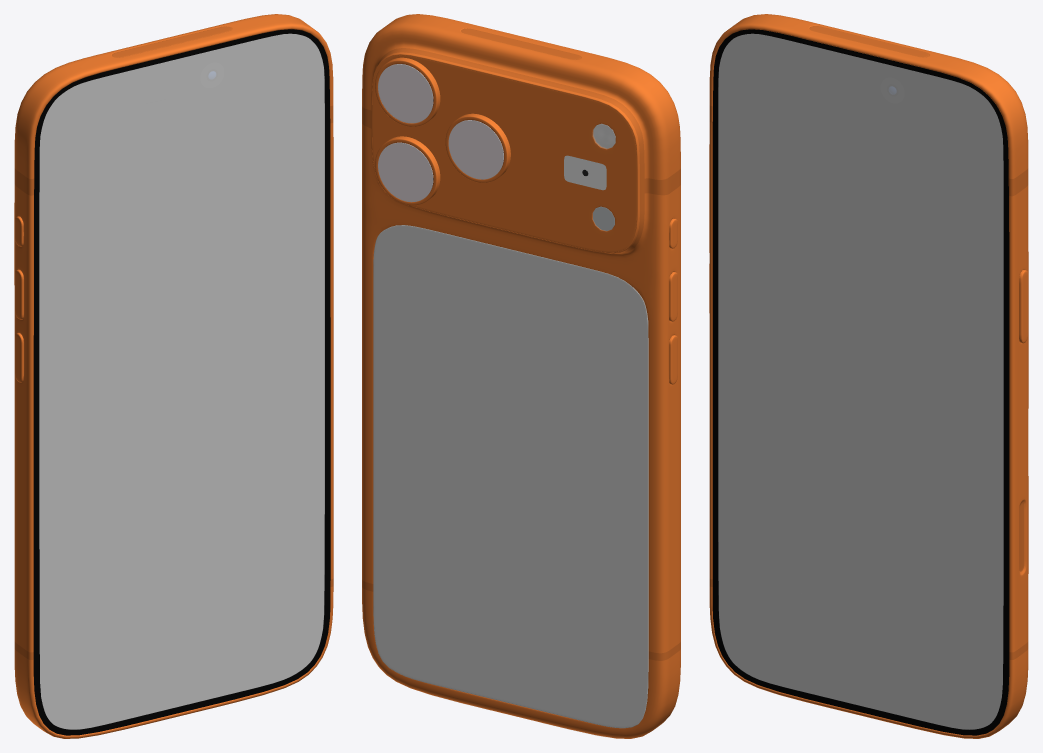
The model's file is Iphone17 test model.fbx.
The picture shows the model from 3 angles, left to right: view 1: azimuth 30°, elevation 25°; view 2: azimuth 150°, elevation 25°; view 3: azimuth 330°, elevation 25°; orthographic projection.
Visible parts, largest first — view 1: Touch Panel, Screen, Cube, Touch Panel.001; view 2: Cube.005, Cube, Cube.002, Circle.007, Circle.001, Circle.004, iphone dot, Circle, Circle.003, Circle.006; view 3: Touch Panel, Screen, Cube, Touch Panel.001, Cube.006.
Part boxes in pixels (x1,y1,x2,y2): Touch Panel: [33, 29, 330, 735]; Screen: [40, 34, 323, 728]; Cube: [14, 14, 333, 738]; Touch Panel.001: [138, 62, 224, 103]; Cube.005: [373, 225, 648, 728]; Cube: [362, 14, 680, 738]; Cube.002: [372, 55, 636, 252]; Circle.007: [448, 120, 503, 179]; Circle.001: [378, 64, 433, 123]; Circle.004: [378, 142, 433, 202]; iphone dot: [564, 155, 606, 190]; Circle: [375, 57, 440, 126]; Circle.003: [375, 136, 440, 205]; Circle.006: [445, 113, 510, 182]; Touch Panel: [712, 29, 1009, 735]; Screen: [719, 34, 1002, 728]; Cube: [709, 14, 1028, 738]; Touch Panel.001: [818, 62, 904, 103]; Cube.006: [1019, 269, 1028, 343].
Size of the model in its own units: 57.34 by 118 by 9.23.
